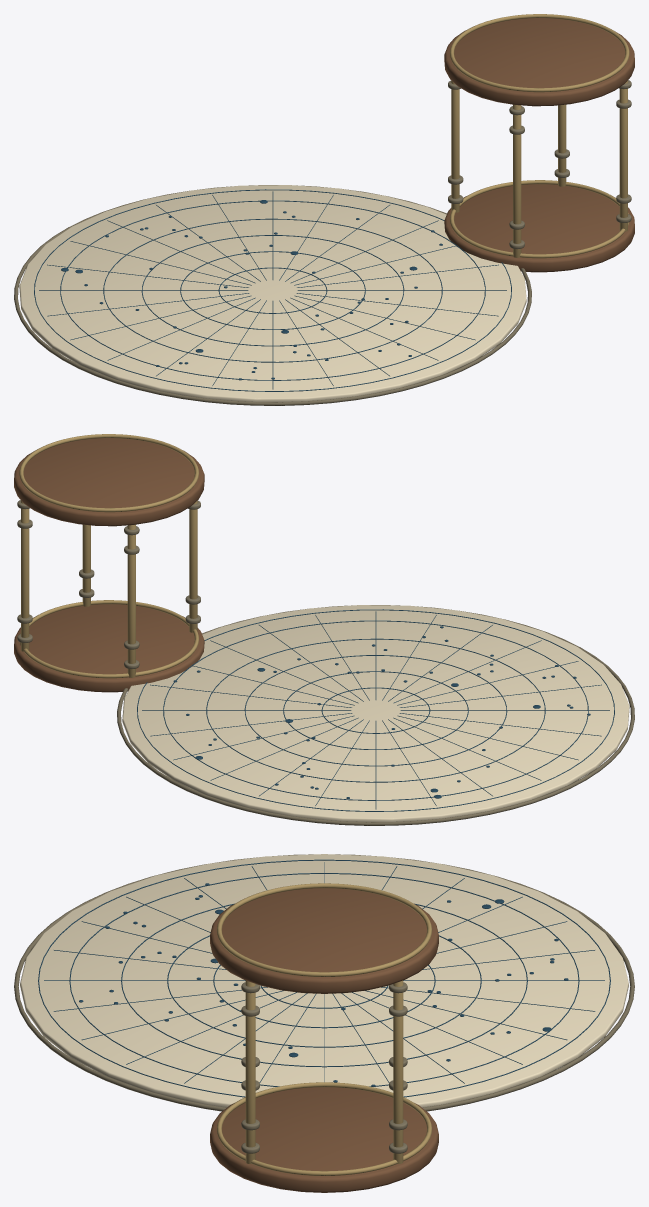
File: chapter-vi-4cc006ef8152.glb
3 views of the same model, one above another, from view 1: azimuth 30°, elevation 25°; view 2: azimuth 150°, elevation 25°; view 3: azimuth 270°, elevation 25° (orthographic). The views are drawn at different scales.
Visible parts, largest first — view 1: Cotton circular chart, Hourglass foot, Celestial coordinate ring, Turned hourglass column, Chart brass outer rim; view 2: Cotton circular chart, Hourglass foot, Celestial coordinate ring, Turned hourglass column, Chart brass outer rim; view 3: Cotton circular chart, Hourglass foot, Celestial coordinate ring, Turned hourglass column, Chart brass outer rim.
Boxes of the visible parts, <box> form: Cotton circular chart: <box>19,185,526,402</box>; Hourglass foot: <box>444,18,634,272</box>; Celestial coordinate ring: <box>34,189,511,391</box>; Turned hourglass column: <box>450,14,629,258</box>; Chart brass outer rim: <box>14,80,631,405</box>; Cotton circular chart: <box>122,605,629,822</box>; Hourglass foot: <box>14,438,204,692</box>; Celestial coordinate ring: <box>137,609,614,811</box>; Turned hourglass column: <box>19,434,198,678</box>; Chart brass outer rim: <box>17,500,634,825</box>; Cotton circular chart: <box>20,854,628,1107</box>; Hourglass foot: <box>210,888,438,1192</box>; Celestial coordinate ring: <box>38,859,610,1097</box>; Turned hourglass column: <box>216,883,432,1175</box>; Chart brass outer rim: <box>14,854,634,1153</box>.
Size of the model in its own units: 4.3 by 1.3 by 3.37.
